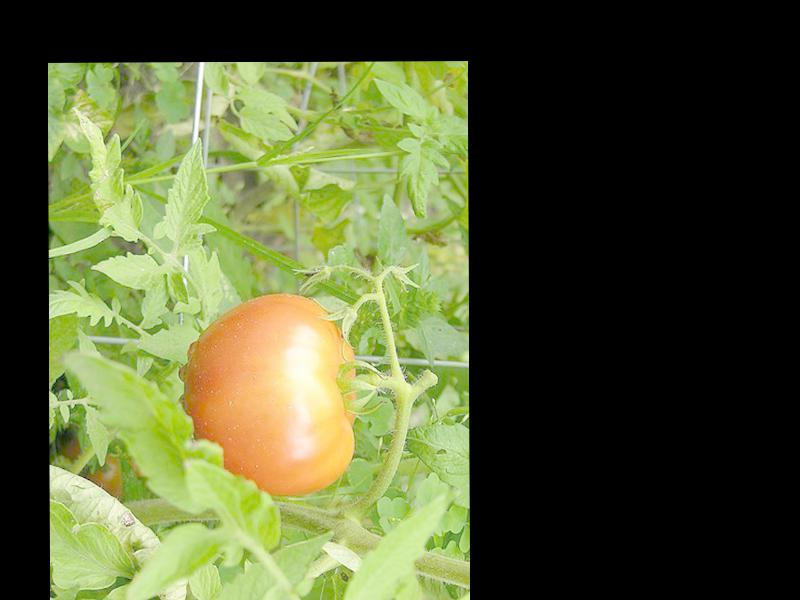Tomato: (186, 295, 357, 495)
